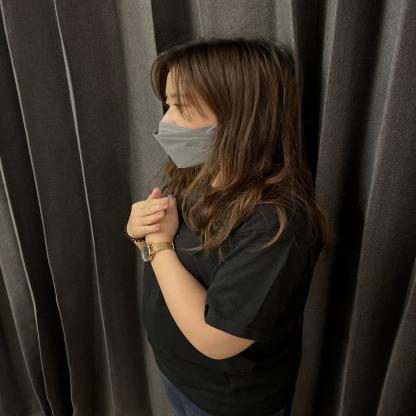Grieve: (93, 174, 237, 266)
